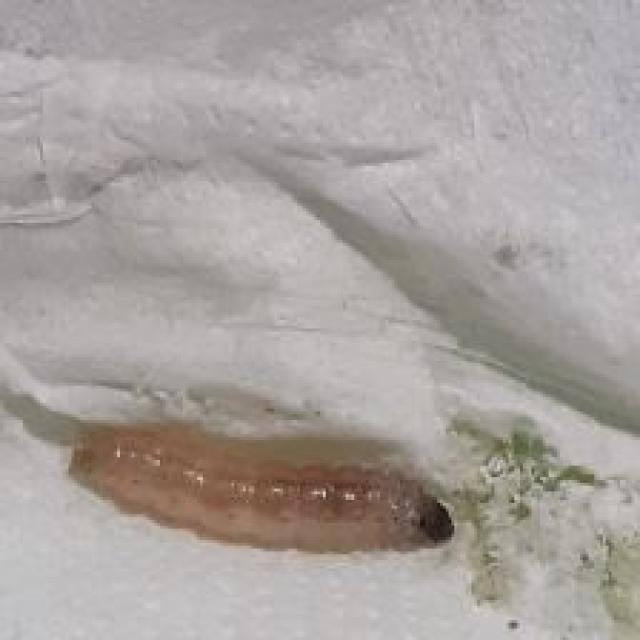white mucus: (54, 425, 460, 570)
